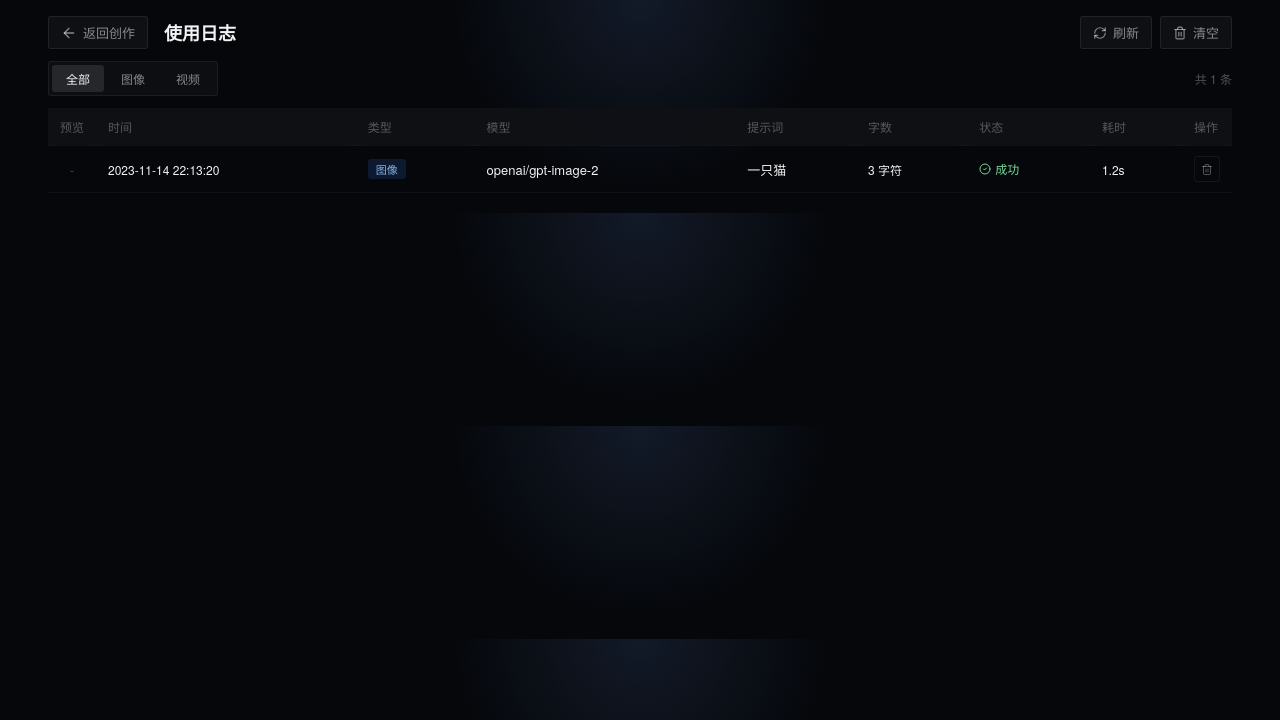
Test: UsageLogPage › 详情抽屉展示完整提示词和生成结果预览
The image size is (1280, 720).
Click the row with class "log-row" at (640, 169), box [48,146,1232,192]
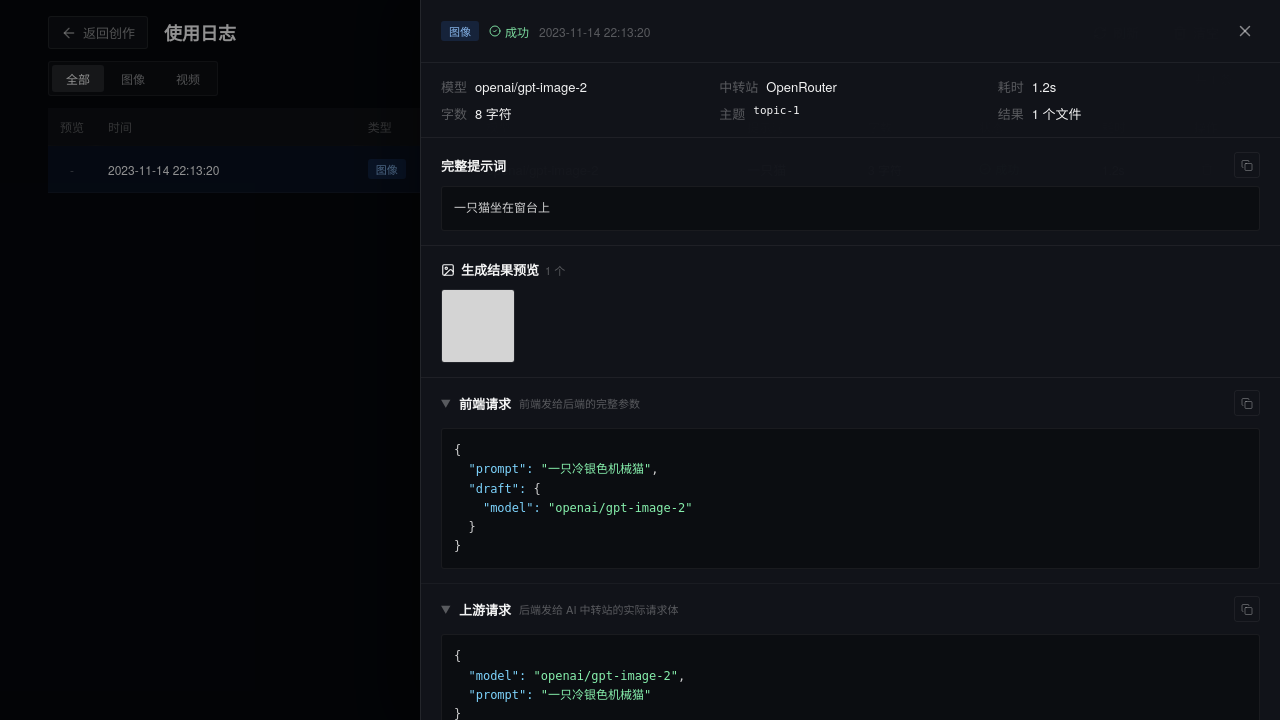
Check: the element showing "完整提示词 一只猫坐在窗台上" is shown, box [421,138,1279,246]
Check: the text "一只猫坐在窗台上" is shown, box [441,186,1260,231]
Check: the element with class "result-preview-section" is shown, box [421,246,1279,378]
